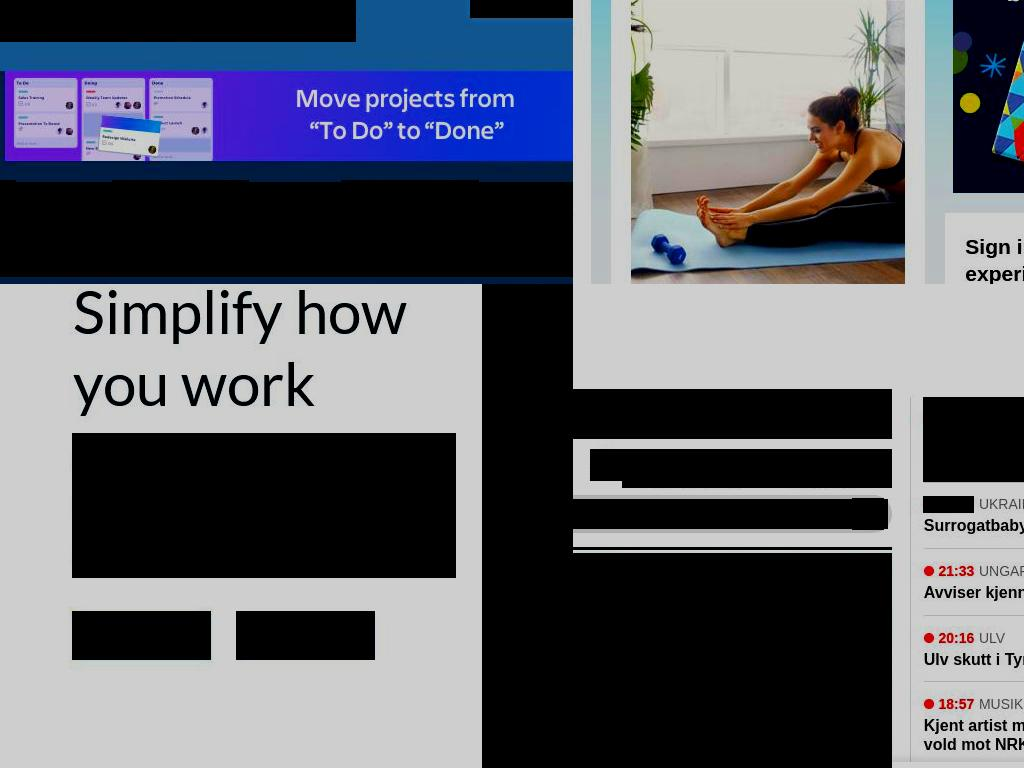button: (630, 0, 906, 284), (573, 553, 892, 768), (0, 0, 356, 42), (923, 397, 1024, 482), (923, 682, 1024, 767), (72, 611, 211, 660), (236, 611, 375, 660), (923, 482, 1024, 549), (923, 615, 1024, 682), (923, 549, 1024, 615), (622, 449, 767, 488), (766, 449, 892, 488)
field: (573, 499, 888, 529)
heading: (72, 433, 456, 578), (72, 284, 456, 419), (923, 430, 1024, 469), (923, 716, 1024, 755), (965, 233, 1024, 284), (923, 516, 1024, 536), (923, 582, 1024, 602), (923, 649, 1024, 669)
iframe: (0, 71, 573, 161), (573, 389, 892, 439)
image: (630, 0, 906, 284), (573, 553, 892, 768), (0, 0, 356, 42), (590, 449, 623, 481), (852, 498, 884, 530)
link: (622, 449, 767, 471), (766, 449, 892, 471), (923, 410, 974, 427), (923, 496, 974, 513), (923, 562, 974, 579), (923, 629, 974, 646), (923, 696, 974, 713)
text: (0, 182, 573, 277), (341, 180, 479, 225), (112, 180, 249, 225), (16, 182, 112, 225), (249, 182, 341, 225), (651, 474, 739, 488), (791, 474, 867, 488), (978, 410, 1024, 427), (978, 496, 1024, 513), (978, 562, 1024, 579), (978, 696, 1024, 713), (978, 629, 1005, 646), (818, 508, 848, 522)
